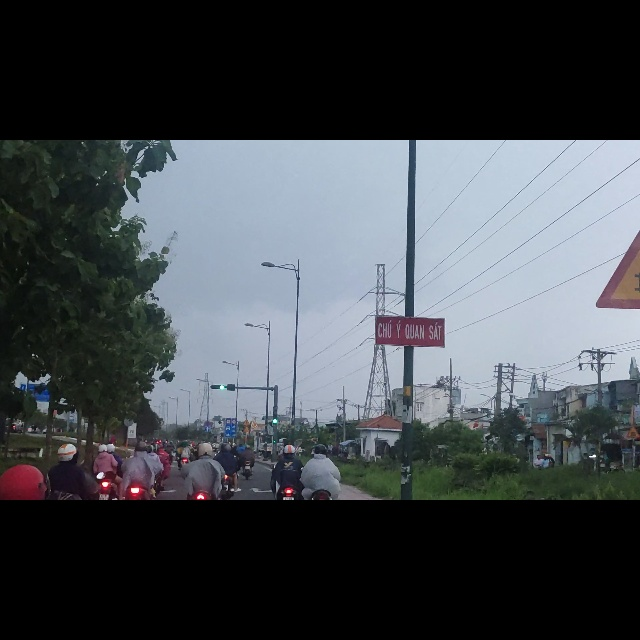bien_cam: (205, 508, 211, 520)
